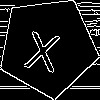X: (23, 21, 64, 73)
